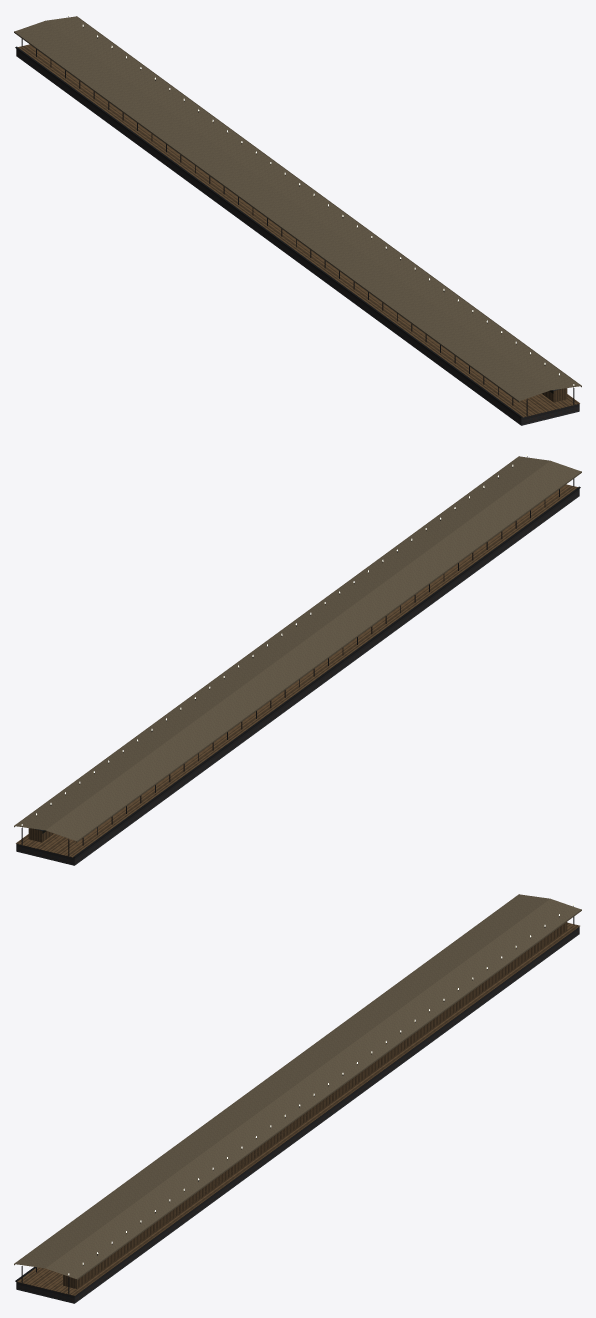
The model's file is A_landing_stage.glb.
The picture shows the model from 3 angles, top to bottom: view 1: azimuth 30°, elevation 25°; view 2: azimuth 150°, elevation 25°; view 3: azimuth 330°, elevation 25°; orthographic projection.
Parts seen in each view (by area): view 1: A_landing_stage; view 2: A_landing_stage; view 3: A_landing_stage.
Part boxes in pixels (box(x1,y1,x2,y2)): A_landing_stage: box(14, 14, 581, 425); A_landing_stage: box(14, 454, 581, 865); A_landing_stage: box(14, 894, 581, 1303).
Bounding box in the file's own units: 15.1 × 6.67 × 210.
9 materials, 7 textured.
